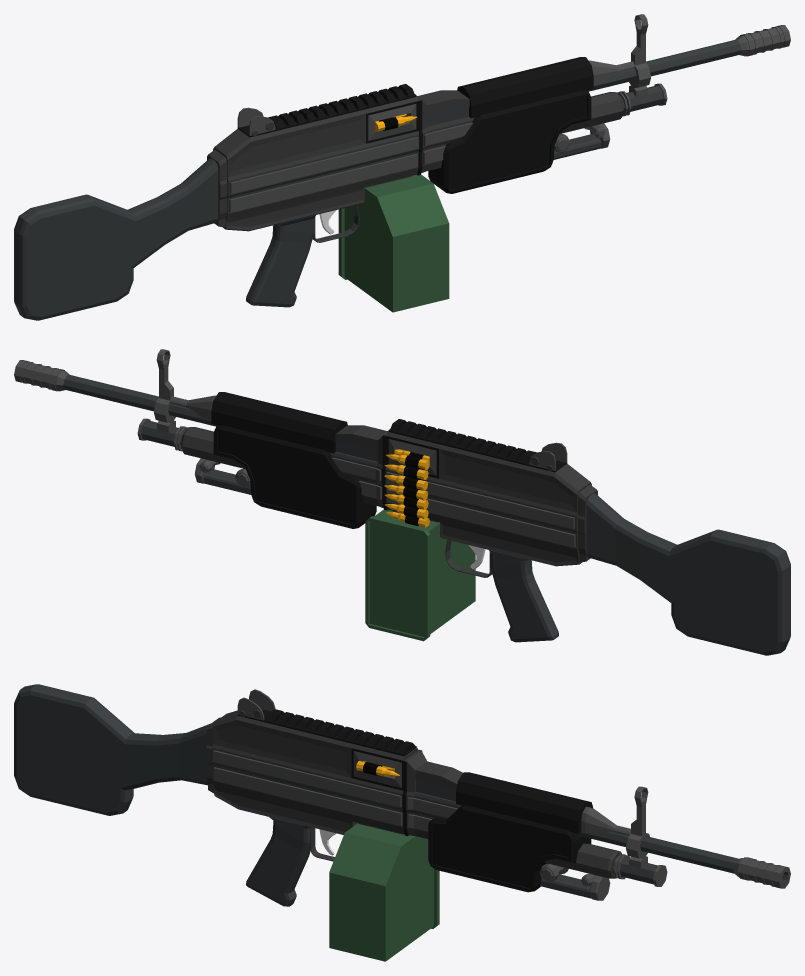
Rendered from M249-LMG.fbx.
3 renders of one model, top to bottom at view 1: azimuth 30°, elevation 25°; view 2: azimuth 150°, elevation 25°; view 3: azimuth 330°, elevation 25°, orthographic.
Parts seen in each view (by area): view 1: M249, M249 - Drum; view 2: M249, M249 - Drum, M249 Bullets; view 3: M249, M249 - Drum.
Boxes of the visible parts, left/top/right/bottom form: M249: left=14, top=14, right=790, bottom=320; M249 - Drum: left=338, top=174, right=449, bottom=312; M249: left=14, top=349, right=790, bottom=655; M249 - Drum: left=365, top=509, right=475, bottom=641; M249 Bullets: left=384, top=449, right=429, bottom=527; M249: left=14, top=684, right=790, bottom=906; M249 - Drum: left=329, top=823, right=439, bottom=961.
Bounding box in the file's own units: 596 × 155 × 68.73.
